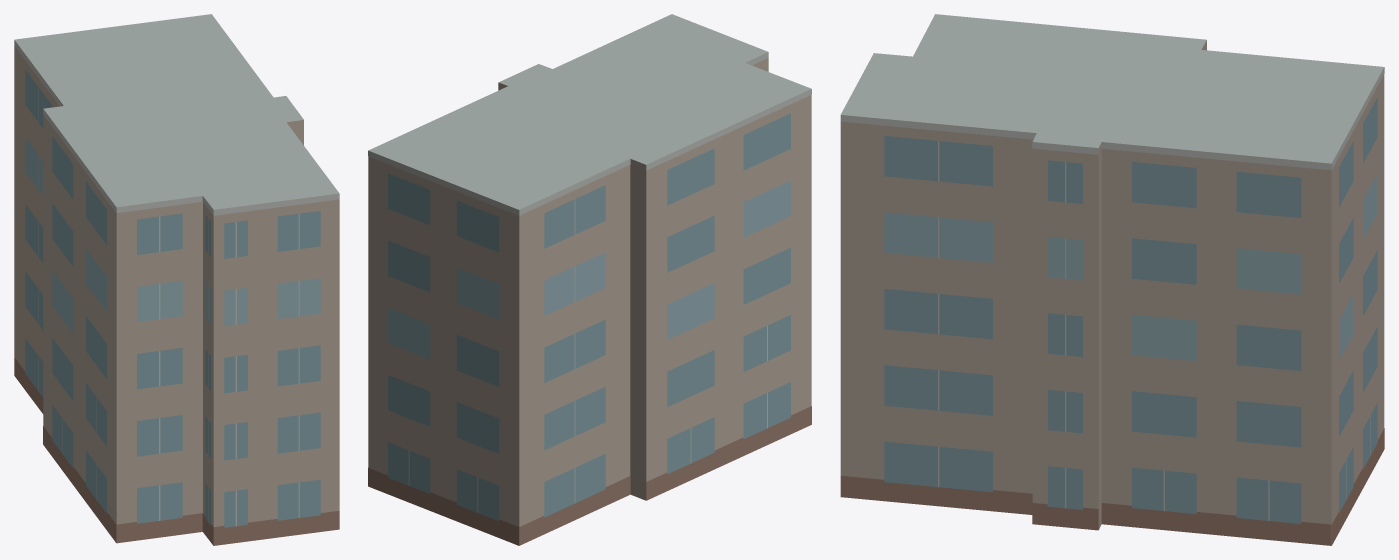
The model's file is survey-upis-32534200.glb.
3 views of the same model, side by side, from view 1: azimuth 30°, elevation 25°; view 2: azimuth 150°, elevation 25°; view 3: azimuth 270°, elevation 25° (orthographic). The views are drawn at different scales.
Parts seen in each view (by area): view 1: survey-upis-32534200.tmp; view 2: survey-upis-32534200.tmp; view 3: survey-upis-32534200.tmp.
Boxes of the visible parts, x1,y1,x2,y2 form: survey-upis-32534200.tmp: (14, 14, 339, 545); survey-upis-32534200.tmp: (368, 14, 811, 545); survey-upis-32534200.tmp: (840, 14, 1384, 545).
Bounding box in the file's own units: 11.68 × 13.9 × 17.94.
